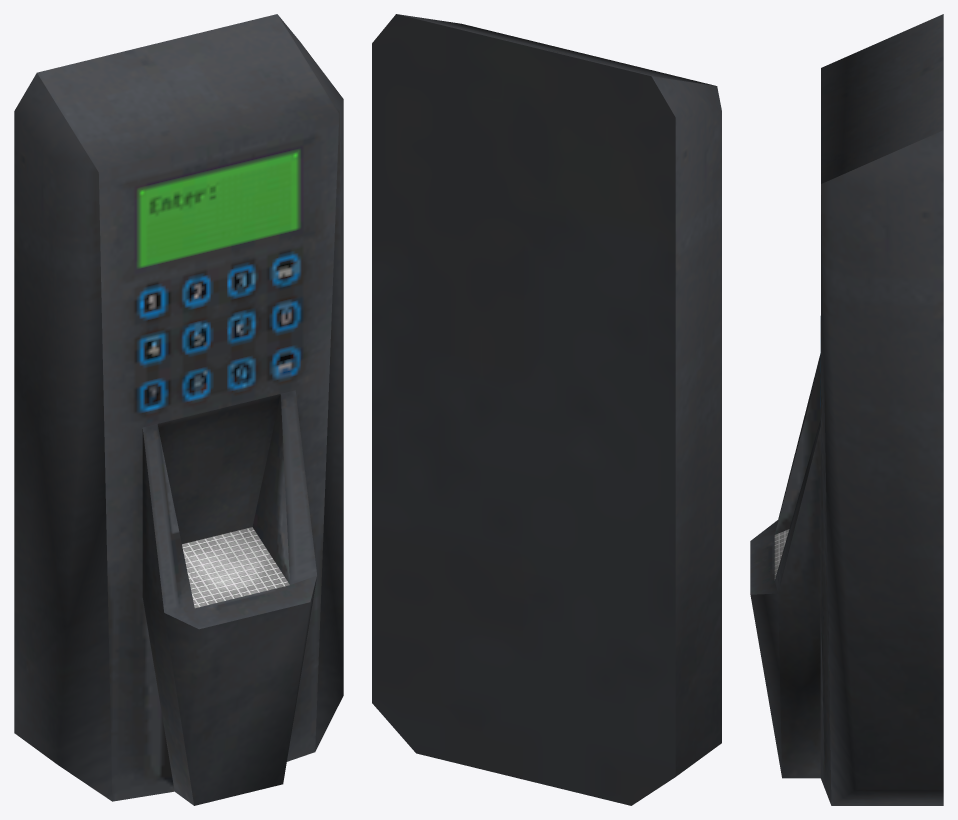
File: ctl_biometric_lock_lod3.glb
The picture shows the model from 3 angles, left to right: view 1: azimuth 30°, elevation 25°; view 2: azimuth 150°, elevation 25°; view 3: azimuth 270°, elevation 25°; orthographic projection. The views are drawn at different scales.
Visible parts, largest first — view 1: surf0, surf1; view 2: surf0; view 3: surf0, surf1.
Part boxes in pixels (box(x1,y1,x2,y2)): surf0: box(14, 14, 343, 805); surf1: box(182, 527, 289, 608); surf0: box(372, 14, 721, 805); surf0: box(750, 14, 943, 805); surf1: box(774, 529, 789, 580).
Size of the model in its own units: 5.15 by 11.91 by 3.04.
